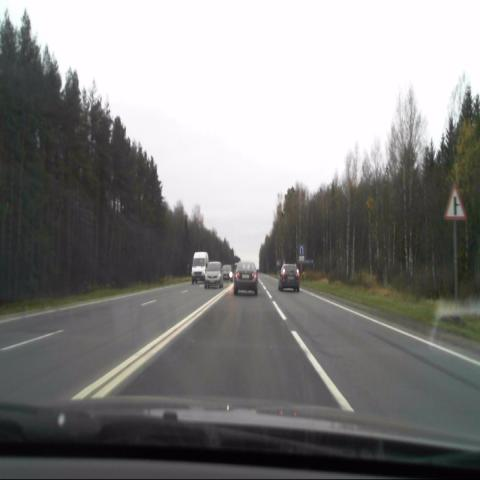2_3_2: (444, 185, 466, 220)
6_3_1: (298, 245, 305, 256)
